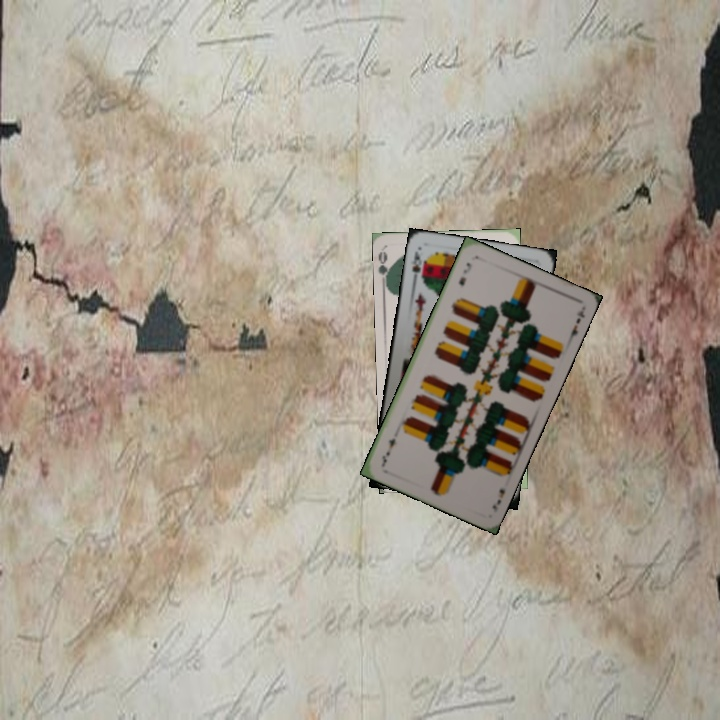E7: (454, 259, 474, 289), (488, 485, 507, 515)
GO: (375, 247, 396, 288)
SK: (408, 247, 428, 286)
